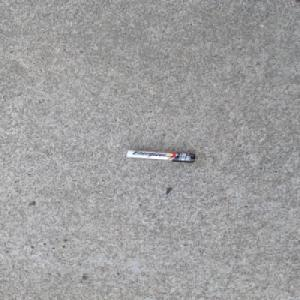Battery: (124, 148, 197, 163)
